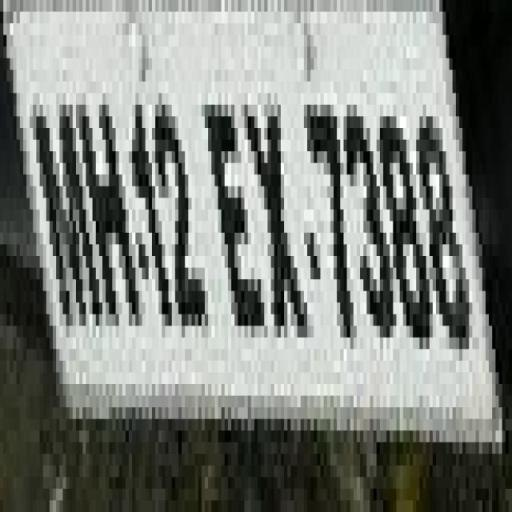number plate: (0, 24, 486, 442)
